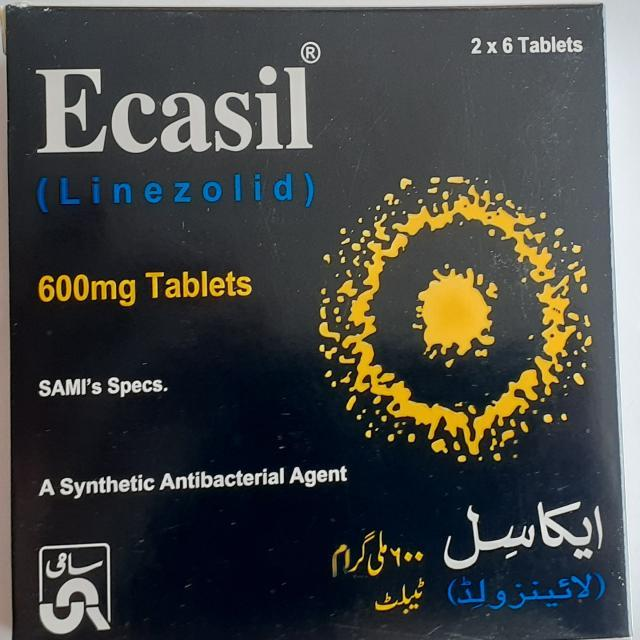drug-name: (31, 62, 314, 154)
